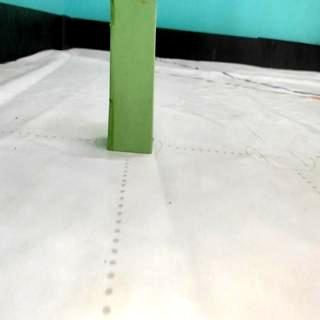greenbox: (110, 2, 156, 153)
